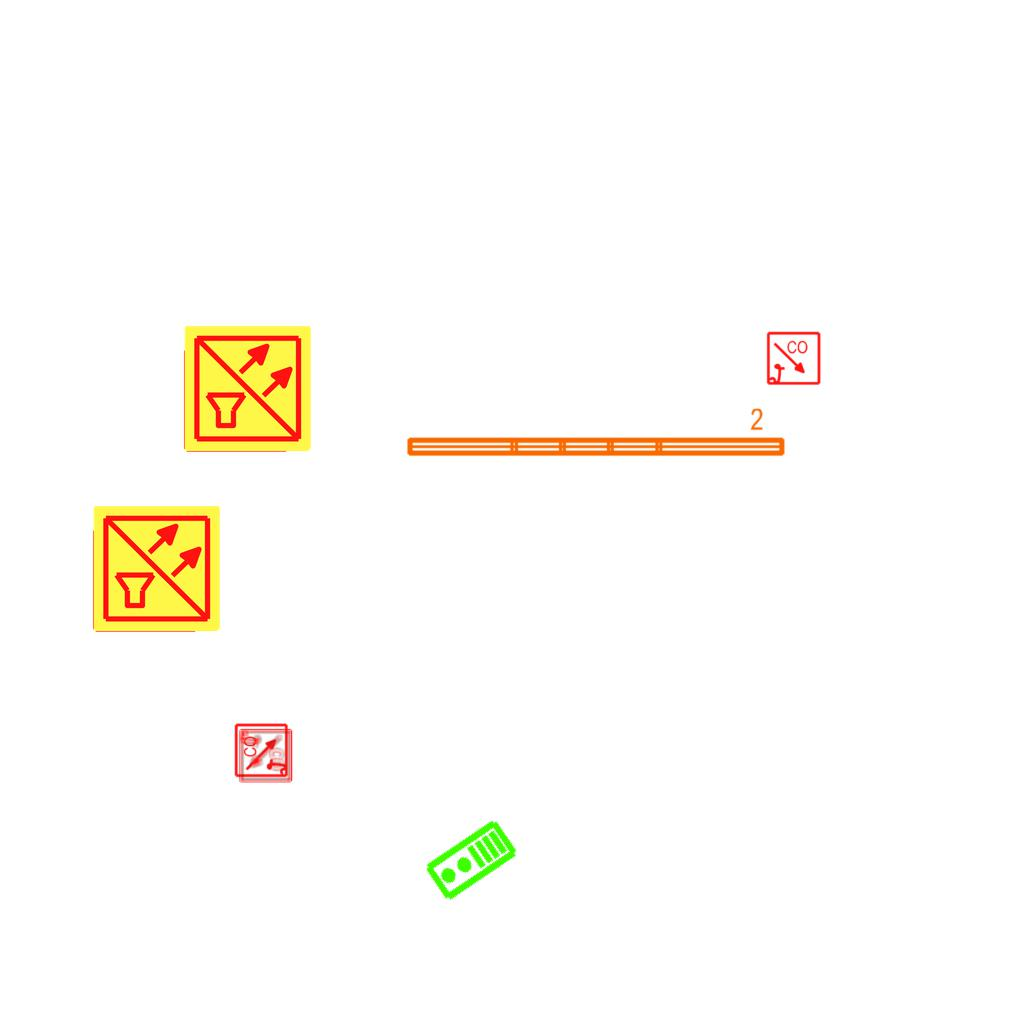Ambulanz_Pendelleuchte_LED: (402, 406, 789, 462)
Gegensprechanlage_mit_Video: (421, 816, 522, 906)
OKW_Multisensormelder_(Kombination_optischer_Rauch-Kahlenmonoxid_Waerme-Melder): (91, 503, 223, 635), (182, 323, 314, 455)
ROA_Rauchmelder_optisch_mit_Signalgeber_(Sockelsirene): (766, 331, 822, 387), (234, 722, 290, 778), (237, 728, 293, 784)
